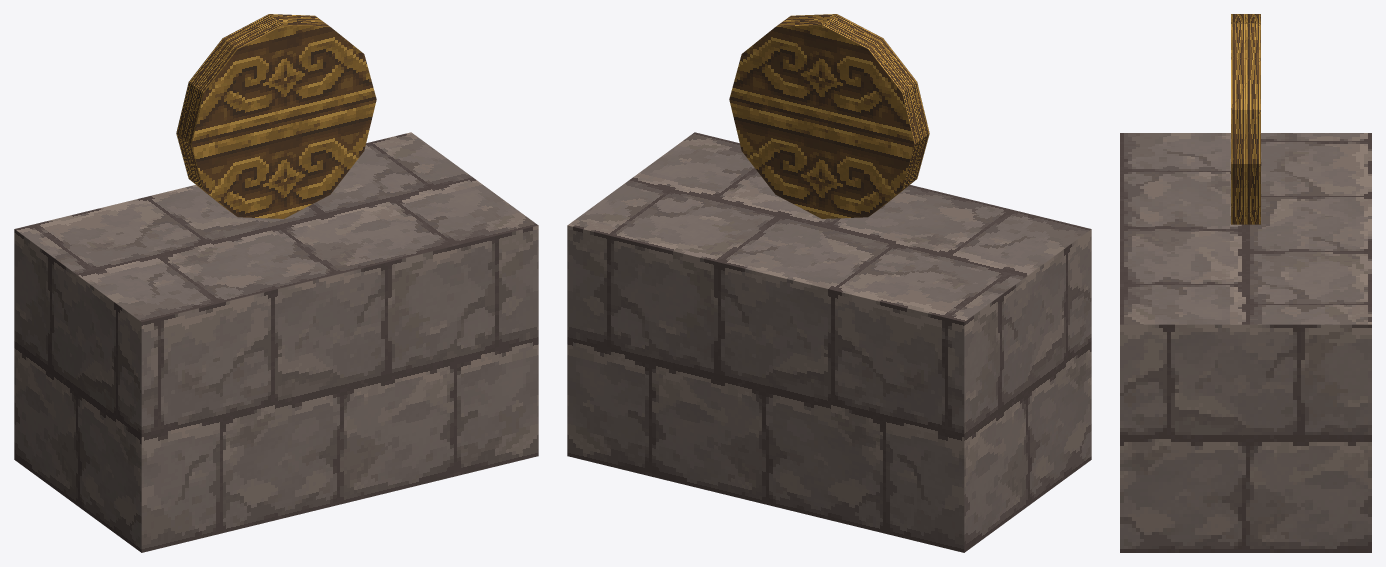
The model's file is altar_dawn.glb.
3 renders of one model, left to right at view 1: azimuth 30°, elevation 25°; view 2: azimuth 150°, elevation 25°; view 3: azimuth 270°, elevation 25°, orthographic.
Visible parts, largest first — view 1: AltarBase; view 2: AltarBase; view 3: AltarBase.
Part boxes in pixels (box(x1,y1,x2,y2)): AltarBase: box(14, 14, 538, 552); AltarBase: box(567, 14, 1091, 552); AltarBase: box(1120, 14, 1371, 552).
Bounding box in the file's own units: 1.8 × 1.9 × 1.
2 materials, 2 textured.
